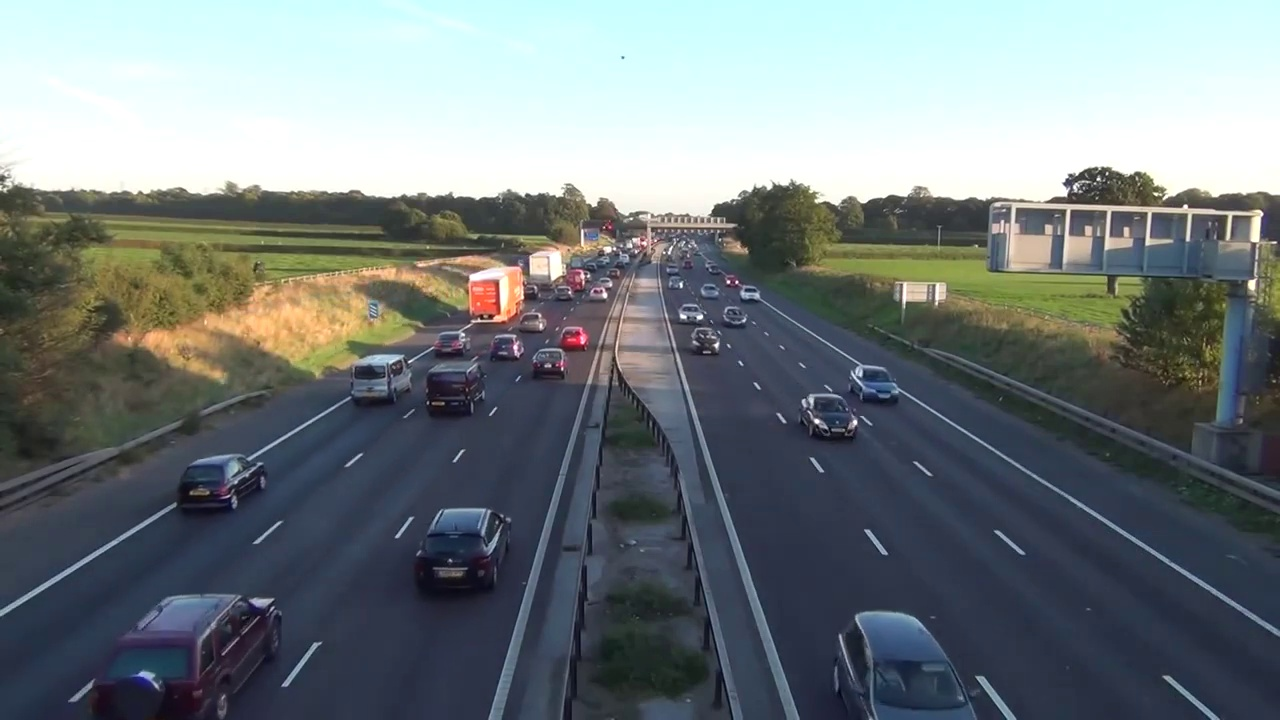bus: (99, 590, 287, 715), (827, 610, 984, 716), (406, 502, 520, 598), (168, 452, 280, 511), (796, 388, 858, 438), (850, 361, 897, 404), (530, 347, 570, 379), (432, 331, 472, 357), (487, 334, 526, 360), (690, 326, 722, 353), (518, 311, 551, 336), (559, 325, 589, 351), (677, 303, 707, 324), (722, 305, 748, 329), (739, 285, 761, 303), (523, 282, 542, 300), (701, 284, 721, 301), (588, 285, 607, 302), (555, 284, 574, 301), (605, 267, 622, 280), (599, 278, 614, 292), (661, 264, 680, 275), (669, 277, 685, 289), (724, 276, 739, 288), (708, 265, 723, 275), (704, 261, 717, 271), (562, 264, 571, 278), (583, 263, 597, 272), (681, 260, 694, 268), (584, 271, 590, 284)
car: (465, 265, 528, 324), (528, 252, 563, 290), (569, 255, 583, 270)
lorry: (349, 350, 412, 410), (423, 362, 486, 415), (565, 269, 584, 292)
